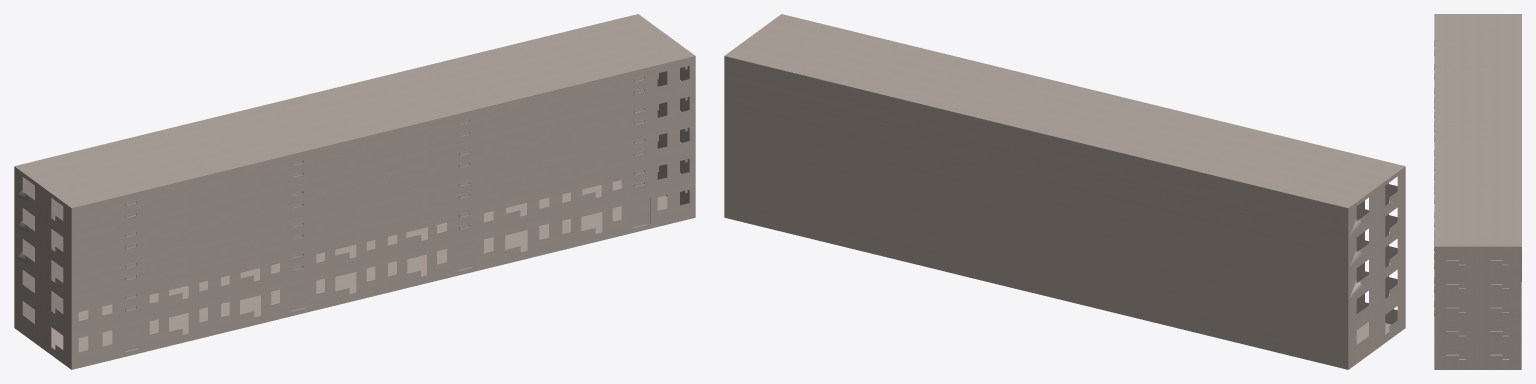
Rendered from EuroFacade.fbx.
3 views of the same model, side by side, from view 1: azimuth 30°, elevation 25°; view 2: azimuth 150°, elevation 25°; view 3: azimuth 270°, elevation 25° (orthographic). The views are drawn at different scales.
Parts seen in each view (by area): view 1: Evro fasad; view 2: Evro fasad; view 3: Evro fasad.
Part boxes in pixels (x1,y1,x2,y2): Evro fasad: [14, 14, 695, 369]; Evro fasad: [724, 14, 1405, 369]; Evro fasad: [1434, 14, 1521, 369].
Bounding box in the file's own units: 154 × 24.61 × 38.11.
